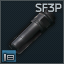AR-15 Surefire SF3P 5.56x45 Flash hider: (0, 0, 64, 64)
